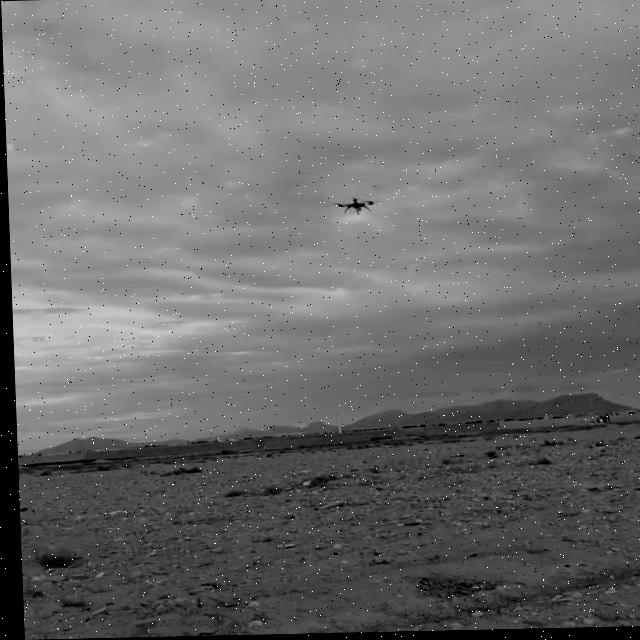drone: (329, 193, 375, 217)
